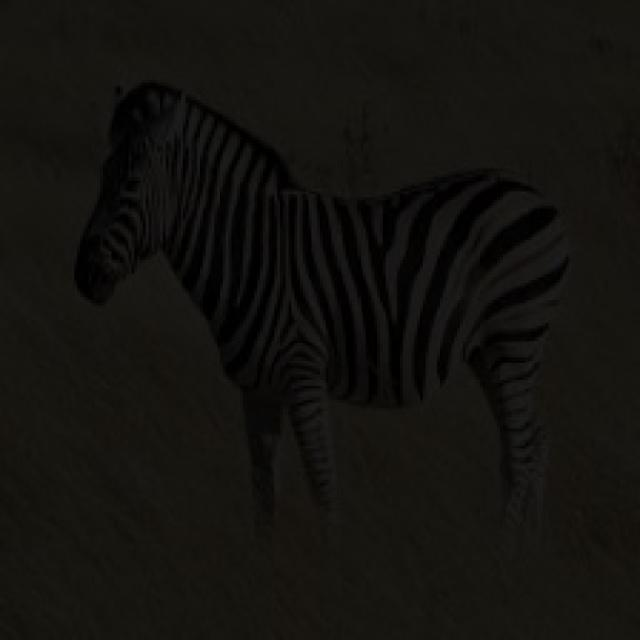animal: (64, 70, 595, 566)
